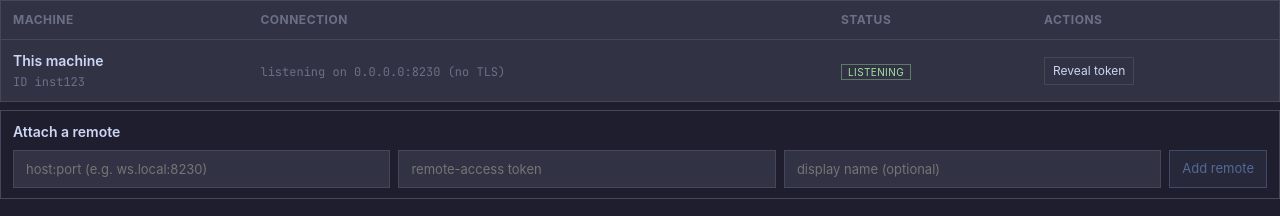
it: RemoteSettings › reveals the token only via the explicit action
Check: the text "This machine" is shown, box [13, 52, 104, 69]
Check: the field showing "super-secret" is not shown
Click the button "Reveal token": click(1089, 70) [1044, 56, 1134, 84]
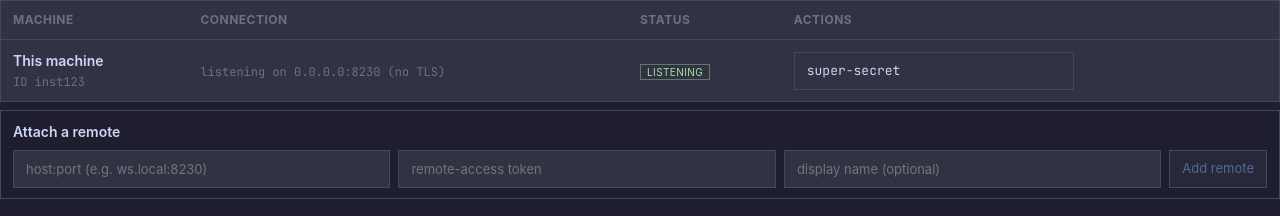
Check: the field showing "super-secret" is shown, box [794, 52, 1074, 90]
